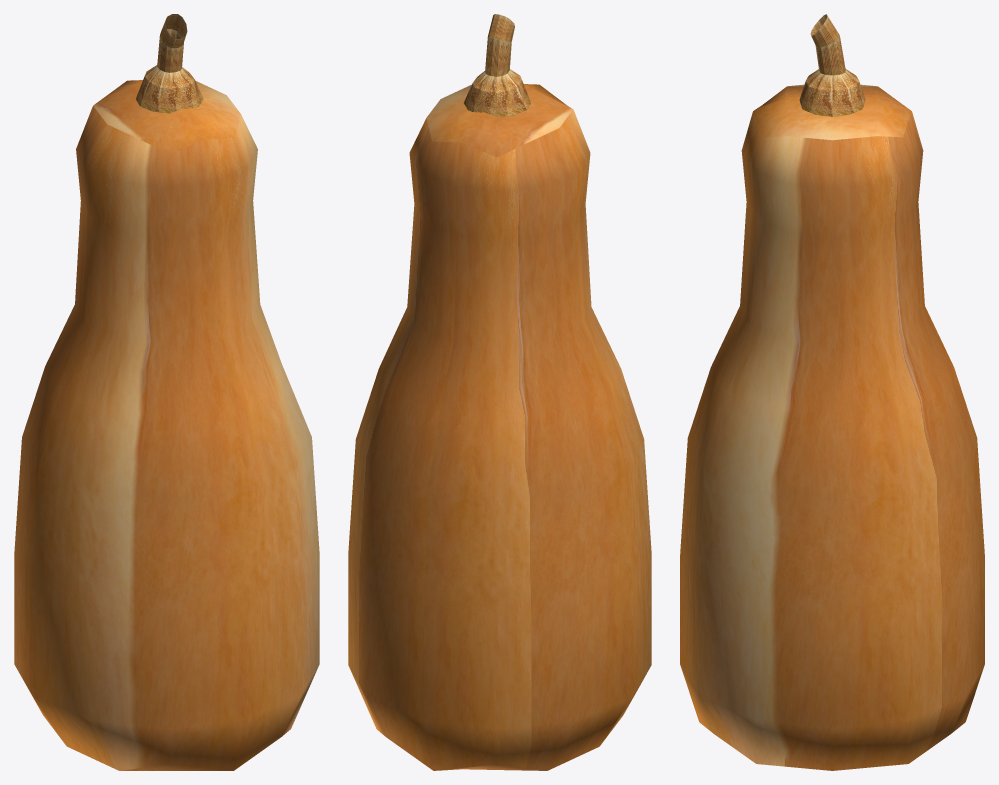
The model's file is butternut squash.fbx.
3 renders of one model, left to right at view 1: azimuth 30°, elevation 25°; view 2: azimuth 150°, elevation 25°; view 3: azimuth 270°, elevation 25°, orthographic.
Visible parts, largest first — view 1: butternutsquash, butternutstem; view 2: butternutsquash, butternutstem; view 3: butternutsquash, butternutstem.
Boxes of the visible parts, bbox=[...] form: butternutsquash: bbox=[14, 80, 319, 770]; butternutstem: bbox=[136, 14, 203, 113]; butternutsquash: bbox=[348, 84, 651, 770]; butternutstem: bbox=[464, 14, 530, 116]; butternutsquash: bbox=[680, 84, 984, 770]; butternutstem: bbox=[799, 14, 865, 116].
Bounding box in the file's own units: 0.9431 × 2.46 × 0.9335.
